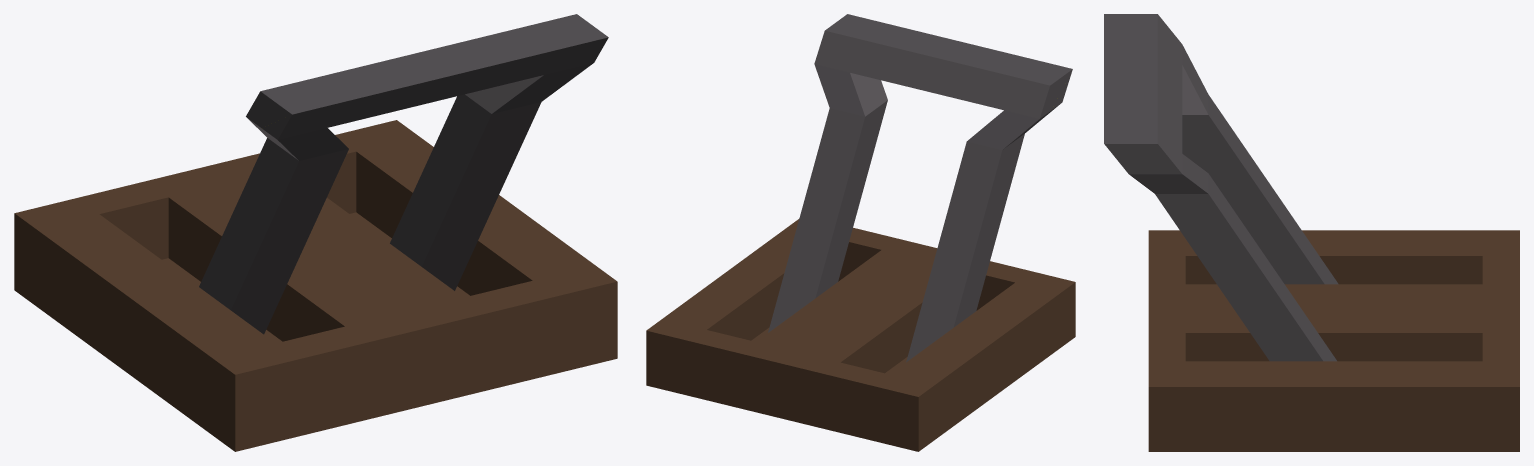
The model's file is LeverFloor.glb.
The picture shows the model from 3 angles, left to right: view 1: azimuth 30°, elevation 25°; view 2: azimuth 150°, elevation 25°; view 3: azimuth 270°, elevation 25°; orthographic projection. The views are drawn at different scales.
Visible parts, largest first — view 1: Plane.005, Plane.003, Plane.004; view 2: Plane.005, Plane.004, Plane.003; view 3: Plane.005, Plane.004, Plane.003.
Boxes of the visible parts, box(x1,y1,x2,y2) form: Plane.005: box(14, 120, 617, 451); Plane.003: box(199, 52, 450, 334); Plane.004: box(390, 14, 608, 290); Plane.005: box(646, 219, 1075, 451); Plane.004: box(768, 14, 959, 332); Plane.003: box(906, 41, 1072, 362); Plane.005: box(1148, 230, 1519, 451); Plane.004: box(1104, 79, 1336, 361); Plane.003: box(1104, 14, 1338, 284).
Bounding box in the file's own units: 0.8582 × 0.7494 × 0.9616.
